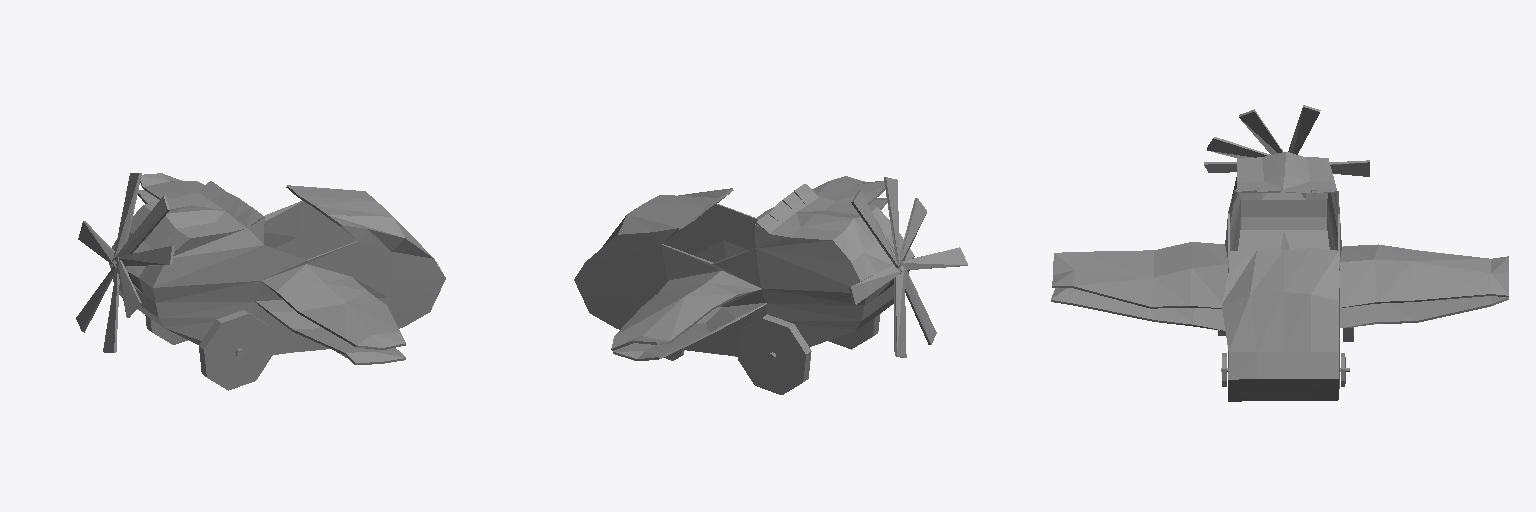
File: Defect_Airplane2.obj
3 views of the same model, side by side, from view 1: azimuth 30°, elevation 25°; view 2: azimuth 150°, elevation 25°; view 3: azimuth 270°, elevation 25° (orthographic).
Parts seen in each view (by area): view 1: Object002; view 2: Object002; view 3: Object002.
Part boxes in pixels (x1,y1,x2,y2): Object002: (76,173,445,390); Object002: (574,176,967,394); Object002: (1051,105,1508,401).
Bounding box in the file's own units: 77.85 × 45.13 × 93.73.